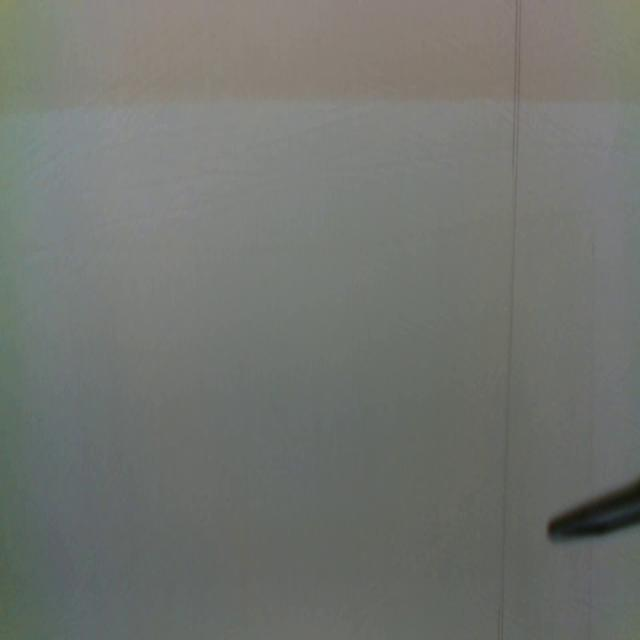color bleeding: (0, 0, 640, 124)
crease: (497, 0, 524, 640)
